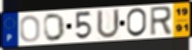5: (74, 10, 94, 41)
O: (42, 12, 66, 42), (125, 7, 148, 38), (19, 14, 41, 43)
R: (149, 5, 174, 37)
U: (96, 8, 122, 41)
